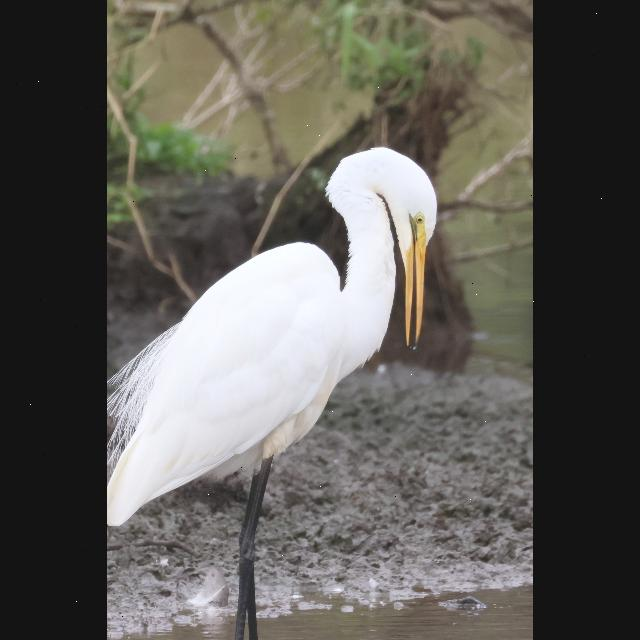egret: (110, 138, 452, 640)
